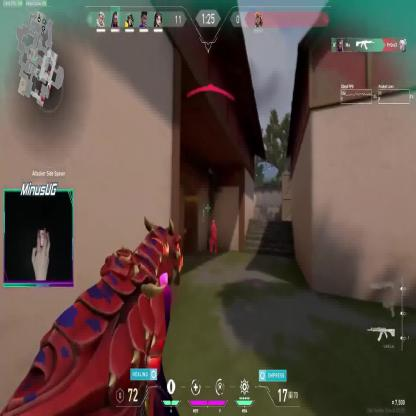enemy: (209, 219, 217, 254)
enemy_head: (212, 218, 216, 227)
